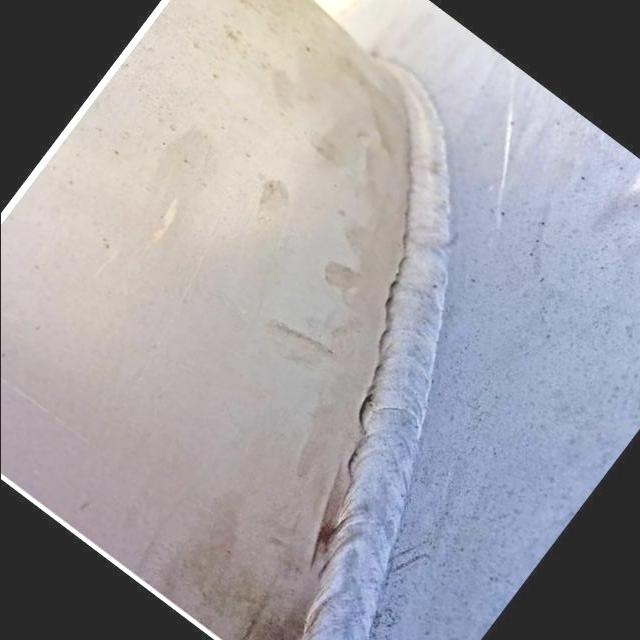defect: (351, 109, 414, 437)
